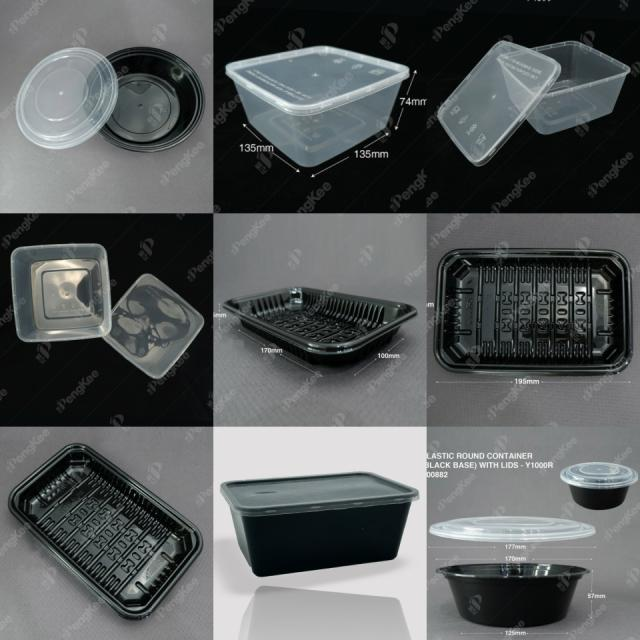Single-Use-Plastic: (9, 444, 202, 618), (434, 249, 631, 374), (225, 46, 409, 168), (220, 471, 419, 576), (438, 41, 561, 166), (224, 288, 416, 364), (82, 48, 205, 151), (498, 41, 630, 134), (96, 274, 204, 378), (15, 48, 118, 149), (436, 562, 589, 627), (11, 245, 111, 342), (430, 516, 596, 542), (560, 462, 639, 510)
